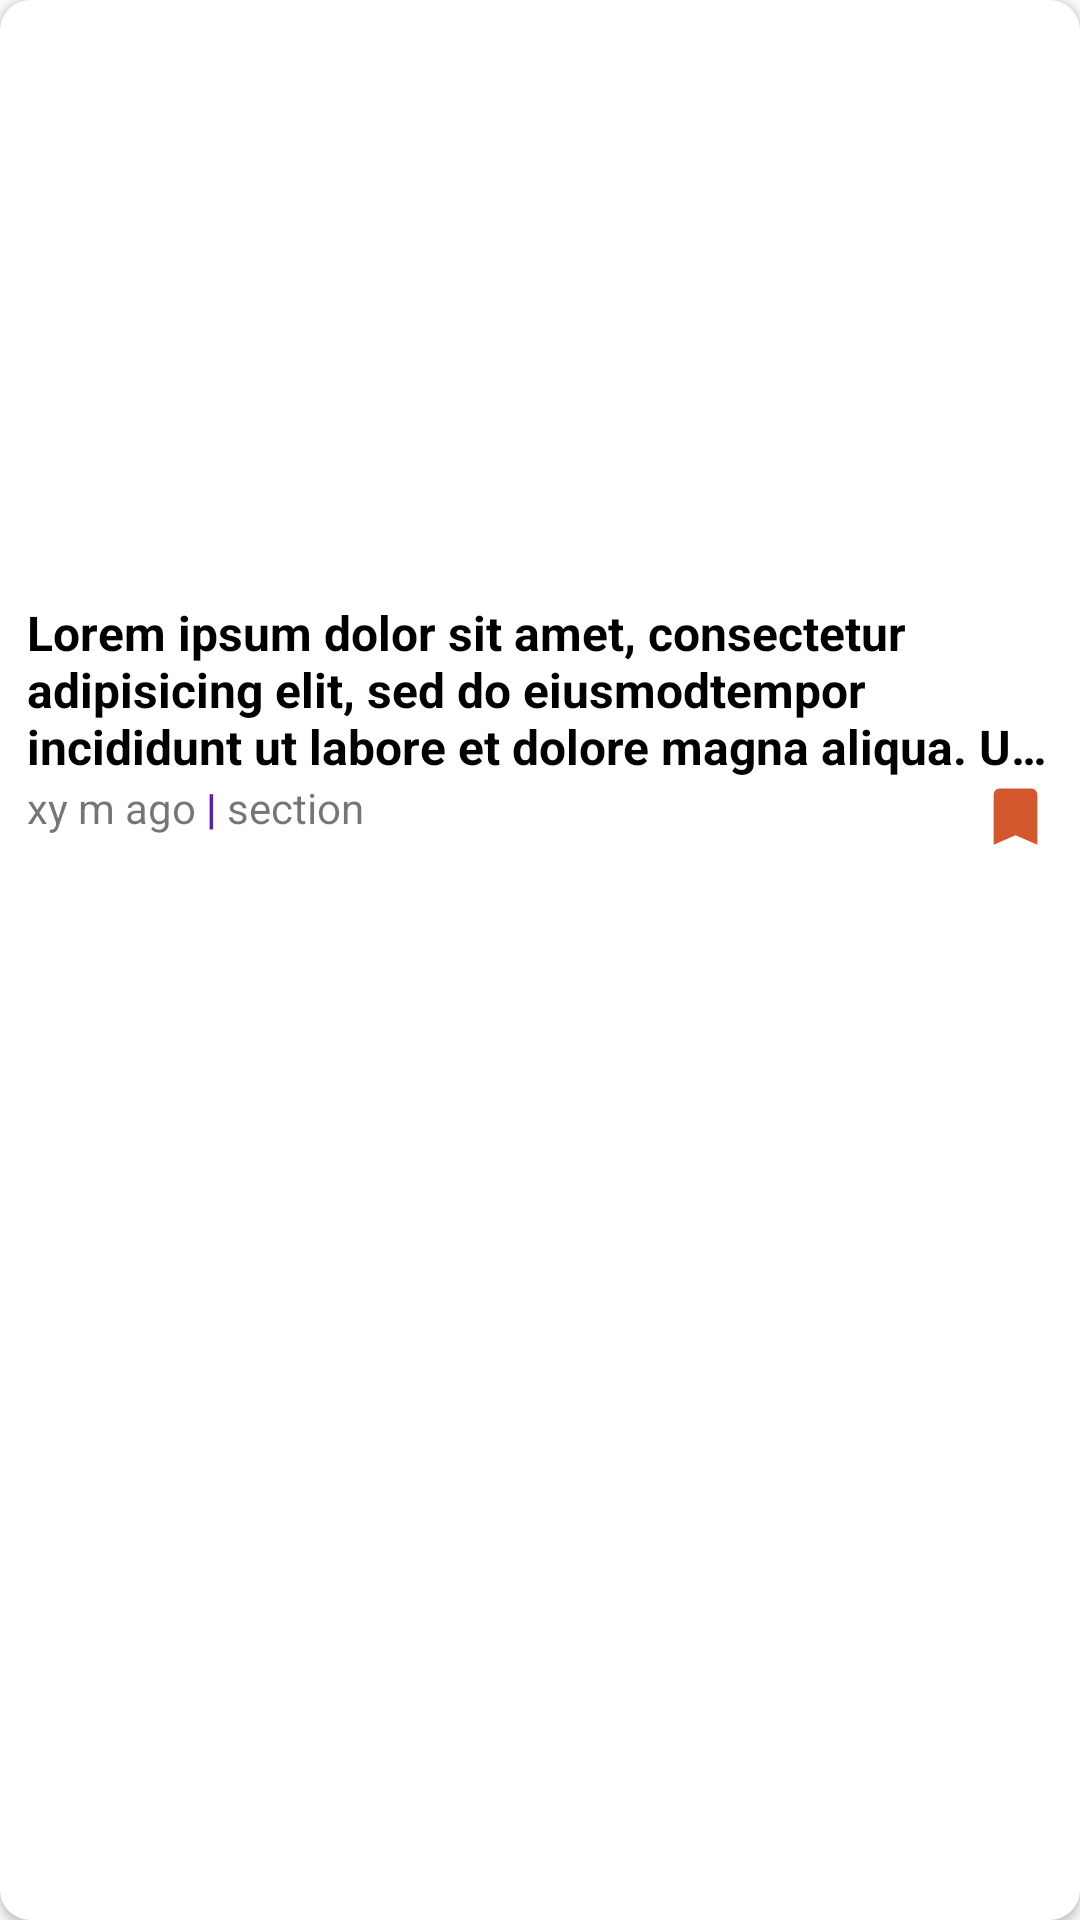

Named icons in this screenshot (1080x1920) and their bounding boxes, (x1, y1, x2, y2):
bookmark: (993, 788, 1038, 845)
